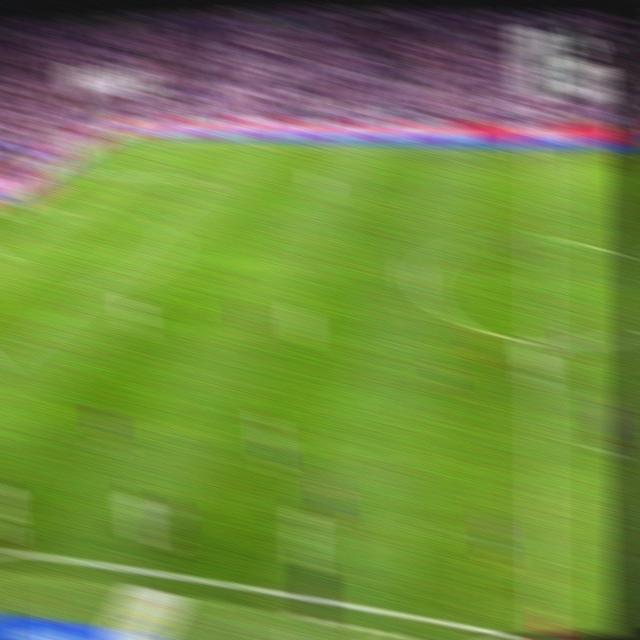bigarea_top_inner: (194, 170, 216, 188)
bigarea_top_outter: (63, 163, 86, 178)
bottom_arc_area_intersection: (75, 278, 99, 299)
corner: (115, 131, 138, 144)
halfcircle_bottom: (526, 328, 555, 356)
halfcircle_top: (526, 224, 554, 250)
midline_bottom_intersection: (528, 619, 555, 639)
midline_top_intersection: (529, 145, 551, 161)
smallarea_top_inner: (54, 201, 76, 216)
top_arc_area_intersection: (148, 213, 171, 230)
